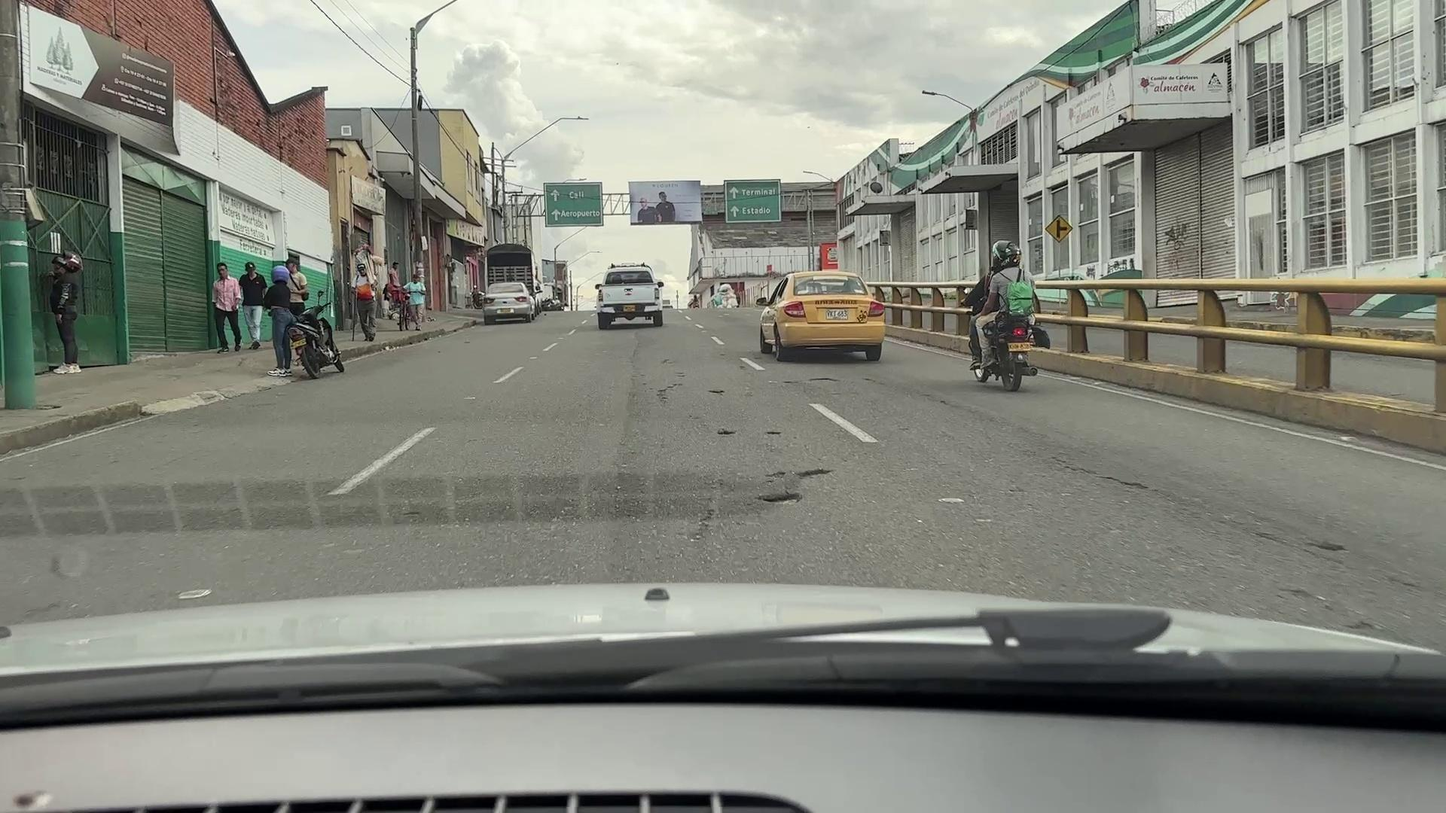bache: (760, 490, 801, 503), (797, 468, 831, 477), (1310, 542, 1345, 550), (766, 471, 785, 477), (717, 429, 735, 435), (811, 378, 837, 381), (766, 431, 781, 434), (710, 391, 724, 393)
